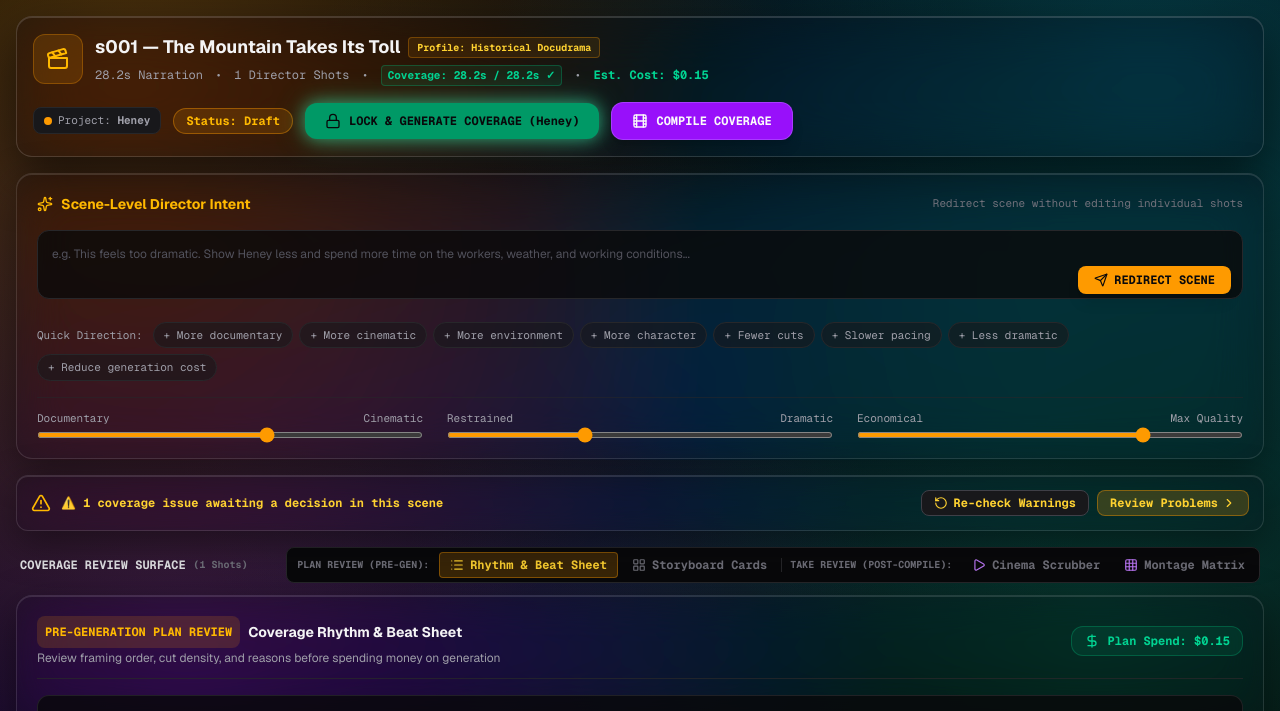
Test: the re-check failed › the previous findings survive a failure, neither cleared nor re-claimed
Click the button with test id "recheck-warnings". click: [1005, 503]
box: [921,490,1089,516]
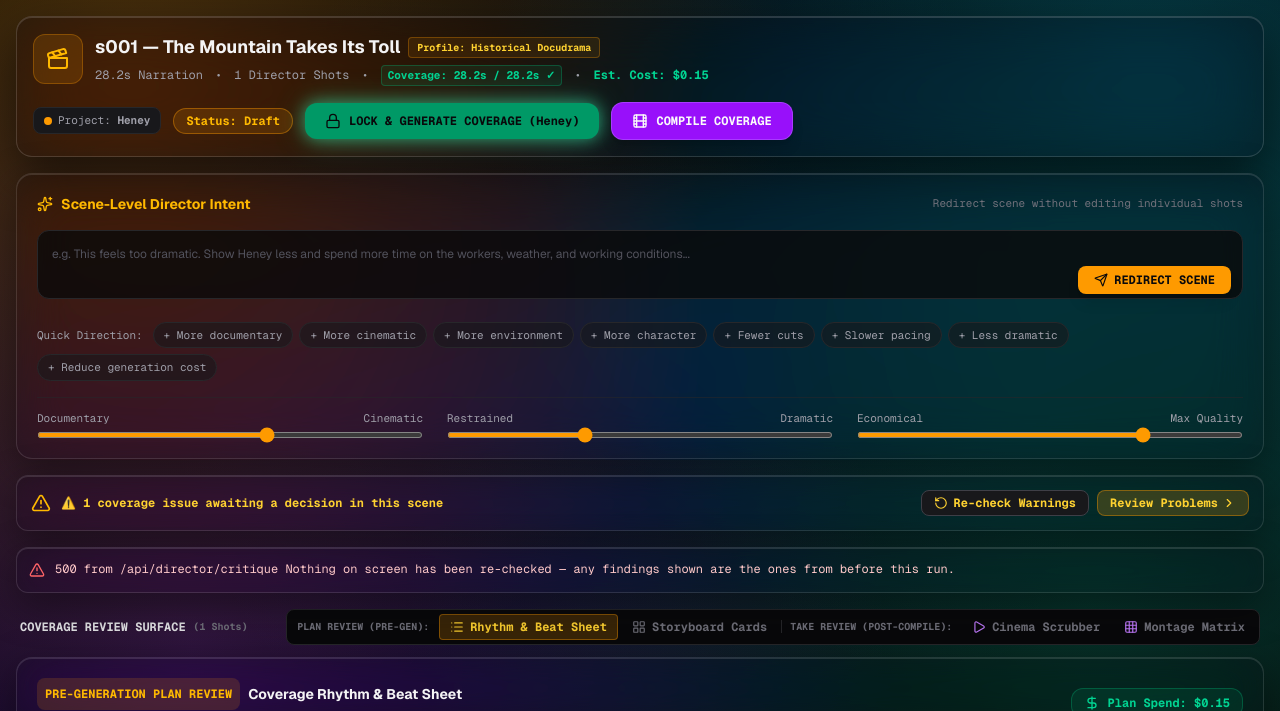
Check: the text with test id "unresolved-count" shows "1 coverage issue", box [61,495,443,511]
Click the button "Review Problems". click: [1173, 503]
box: [1097,490,1249,516]
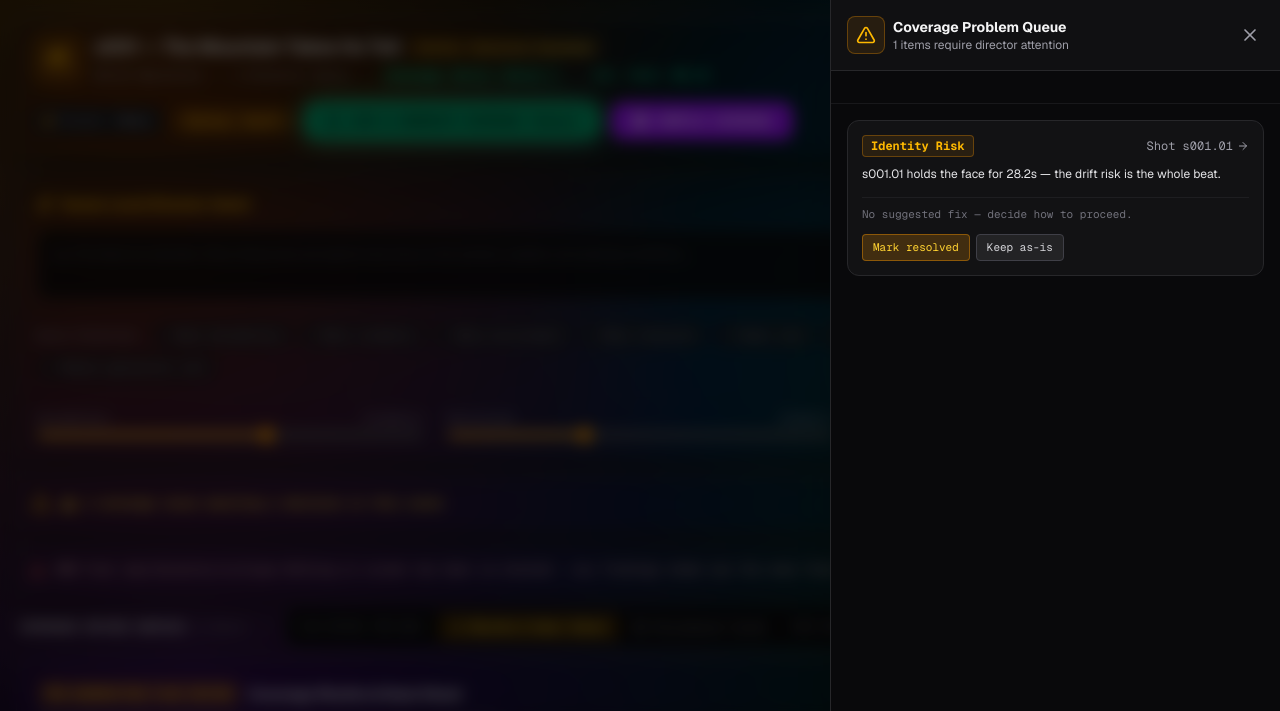
Check: the text "s001.01 holds the face for 28.2s — the drift risk is the whole beat." is shown, box [862,165,1249,184]
